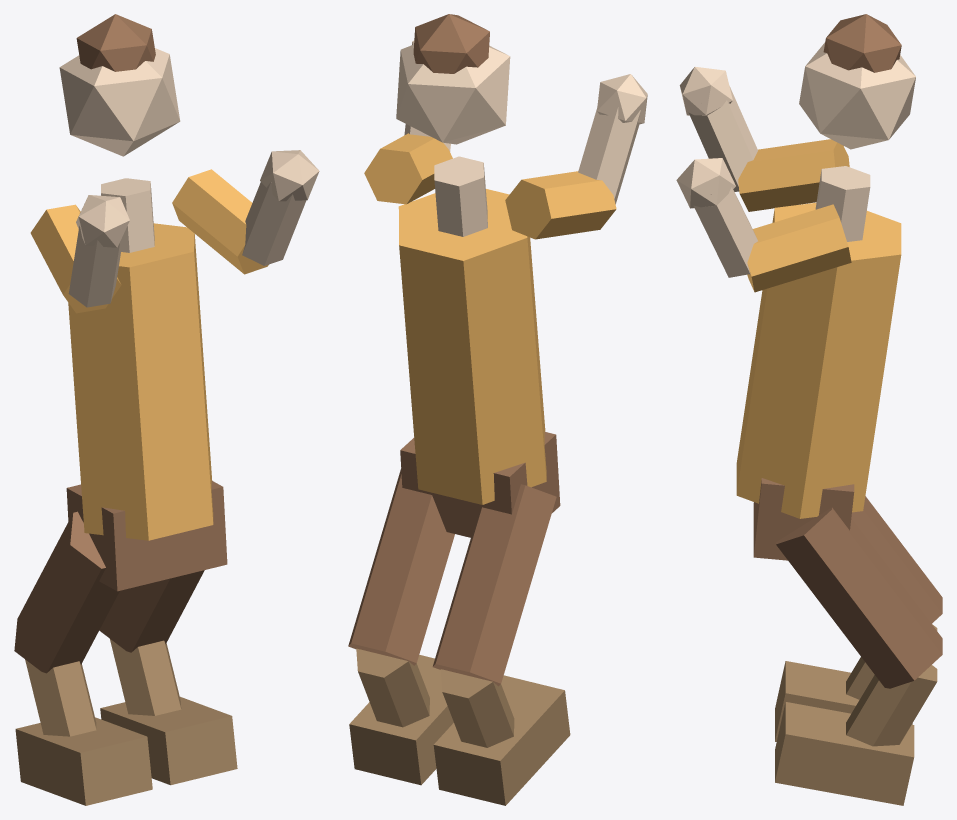
File: pose_dodge_roll_08.glb
3 renders of one model, left to right at view 1: azimuth 30°, elevation 25°; view 2: azimuth 150°, elevation 25°; view 3: azimuth 270°, elevation 25°, orthographic.
Visible parts, largest first — view 1: pose; view 2: pose; view 3: pose.
Boxes of the visible parts, <box> form: pose: <box>14,14,319,805</box>; pose: <box>348,14,647,805</box>; pose: <box>676,14,942,805</box>.
Bounding box in the file's own units: 0.4876 × 1.52 × 0.4867.
